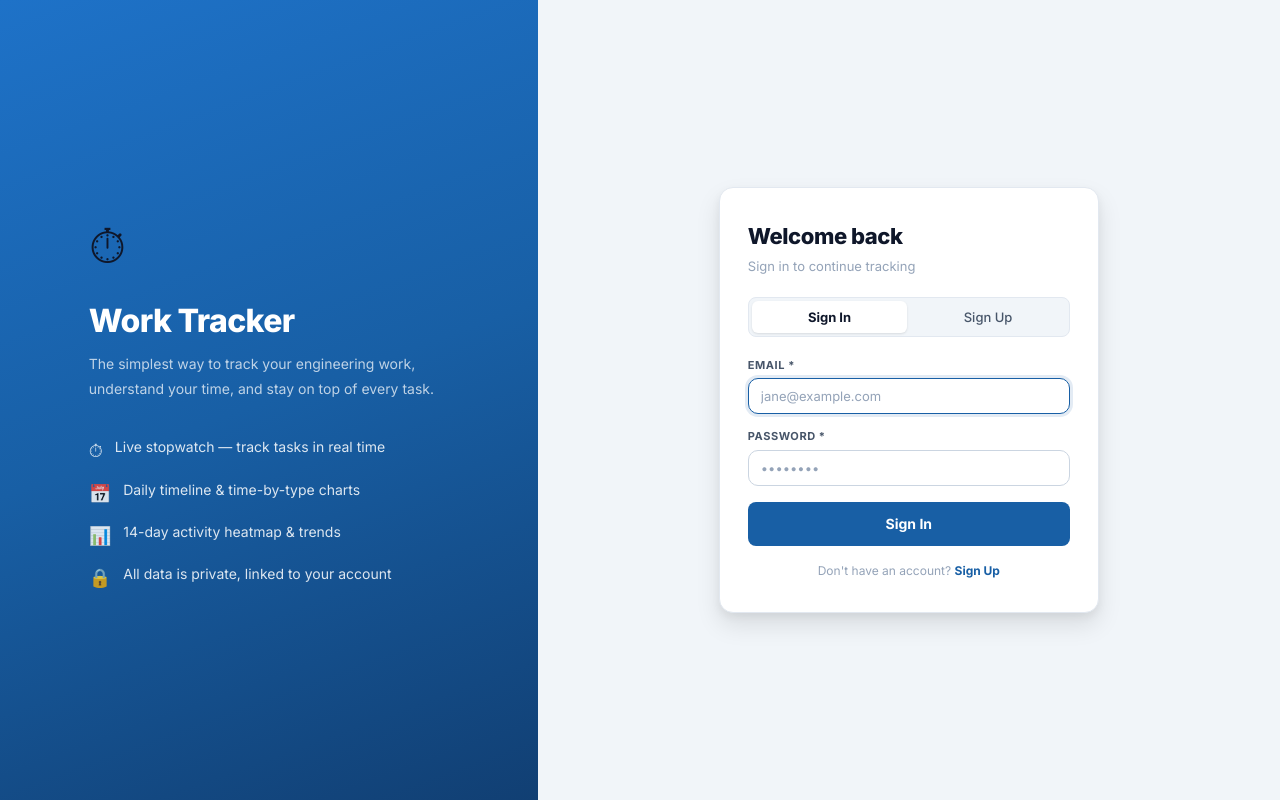
Test: AuthPage › shows the server error message on failed login
Type "ada@example.com" into the field with placeholder "jane@example.com" at (909,396), box 748,378 -> 1070,414
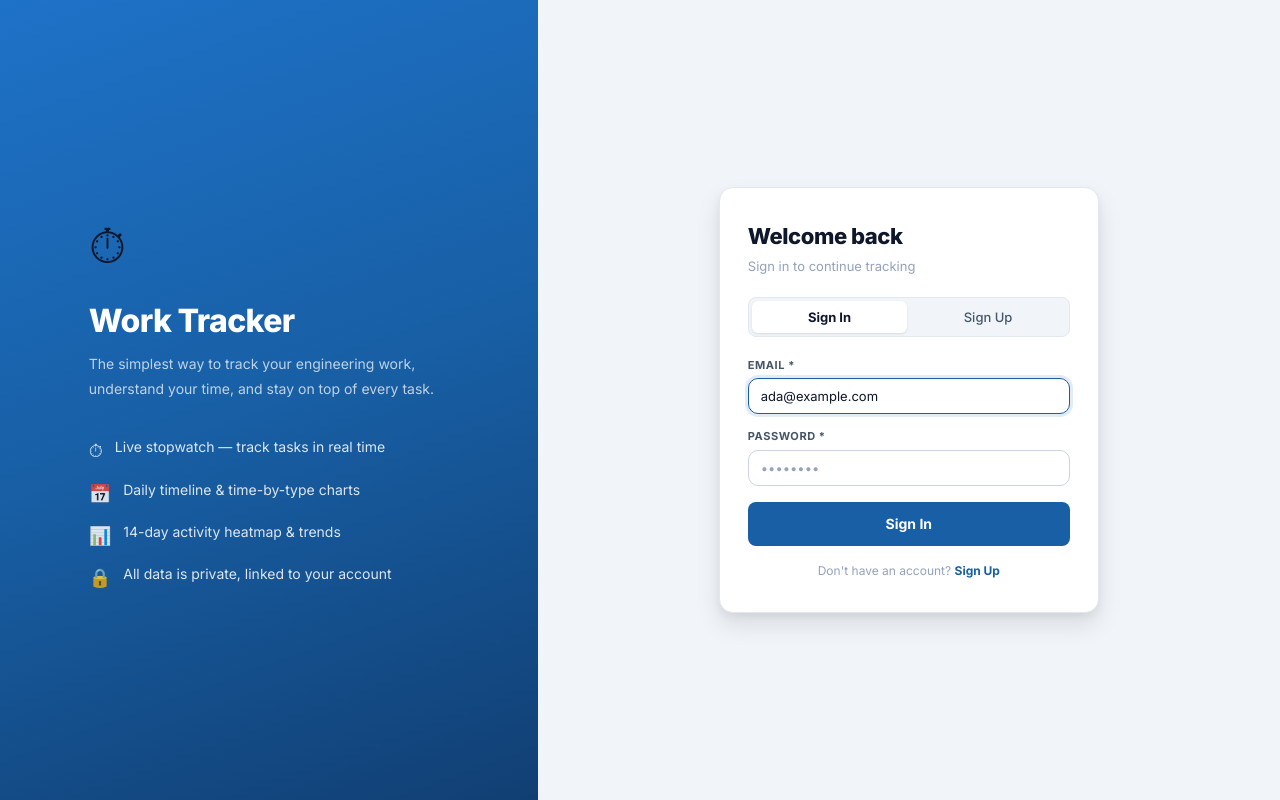
Type "wrongpassword" into the password field with placeholder "••••••••" at (909,468), box 748,450 -> 1070,486
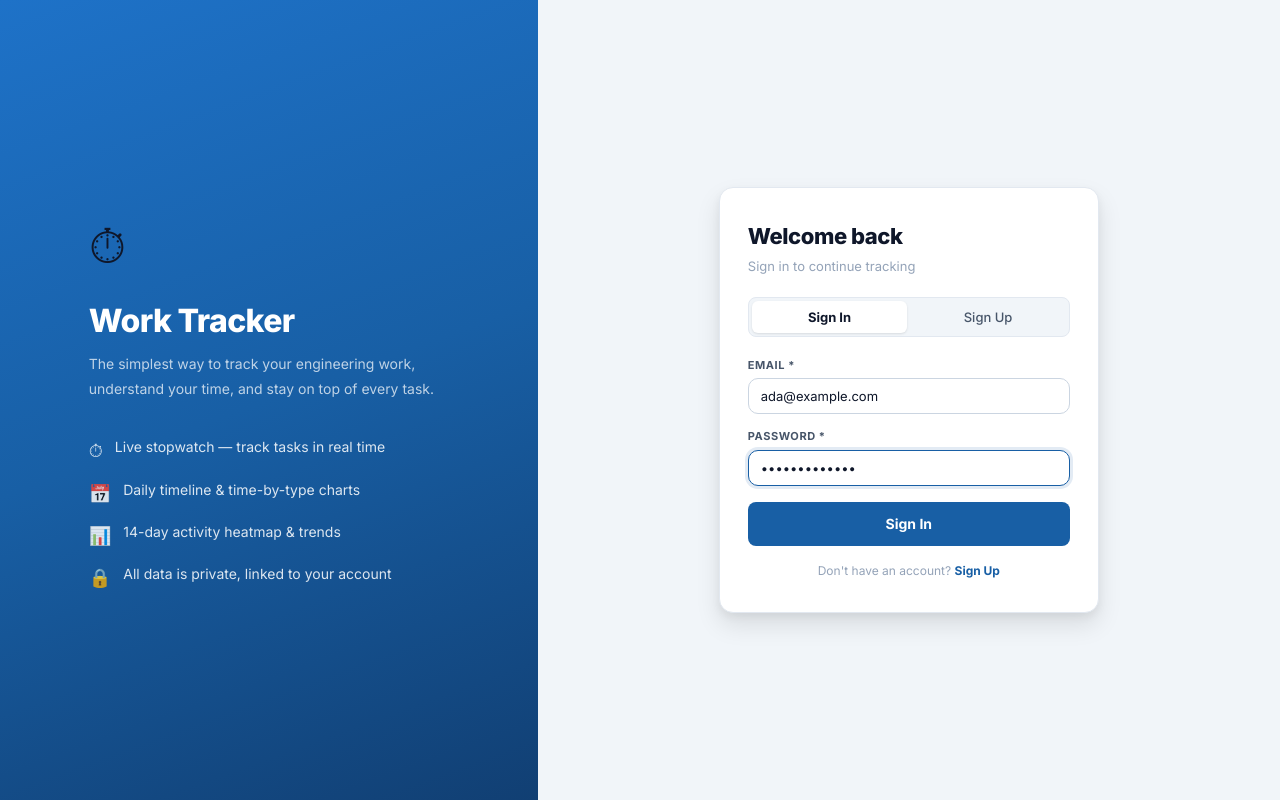
Click the button "Sign In" below "Password *" at (909,524), box 748,502 -> 1070,546
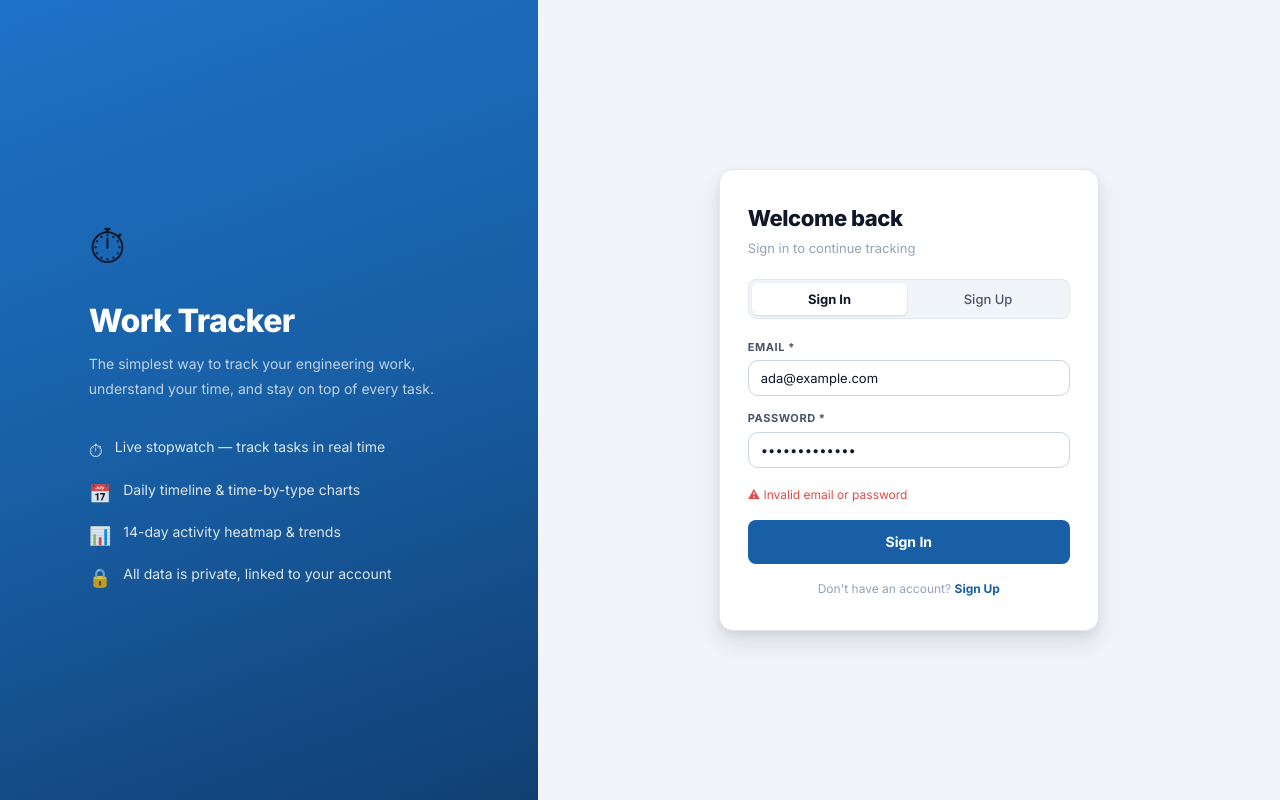
Expected: the text "⚠ Invalid email or password" is shown, 748,487 -> 907,502
